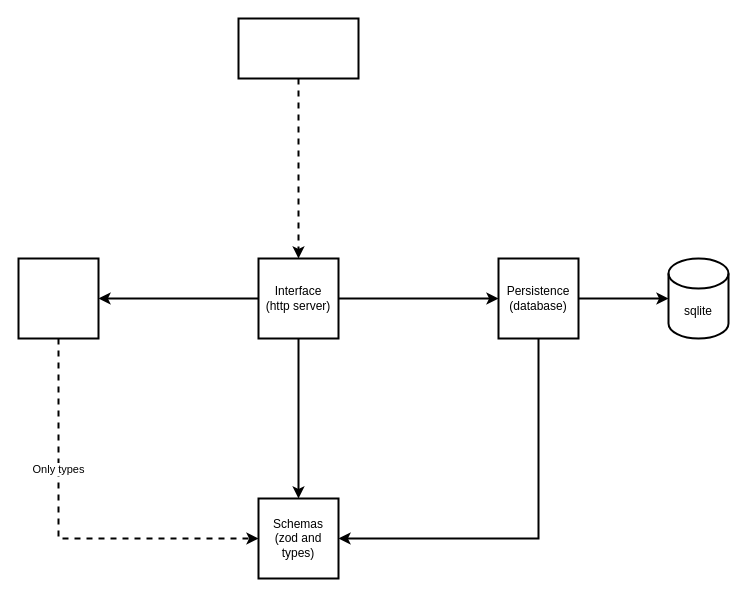
Image size: 746x596. Some labels were removed from this diagram. Here are the shapes that lost their labels. From the top down, the centre of each, then its label:
[298,48]: Http Client (fetch / axios)
[58,298]: Core (business logic)
